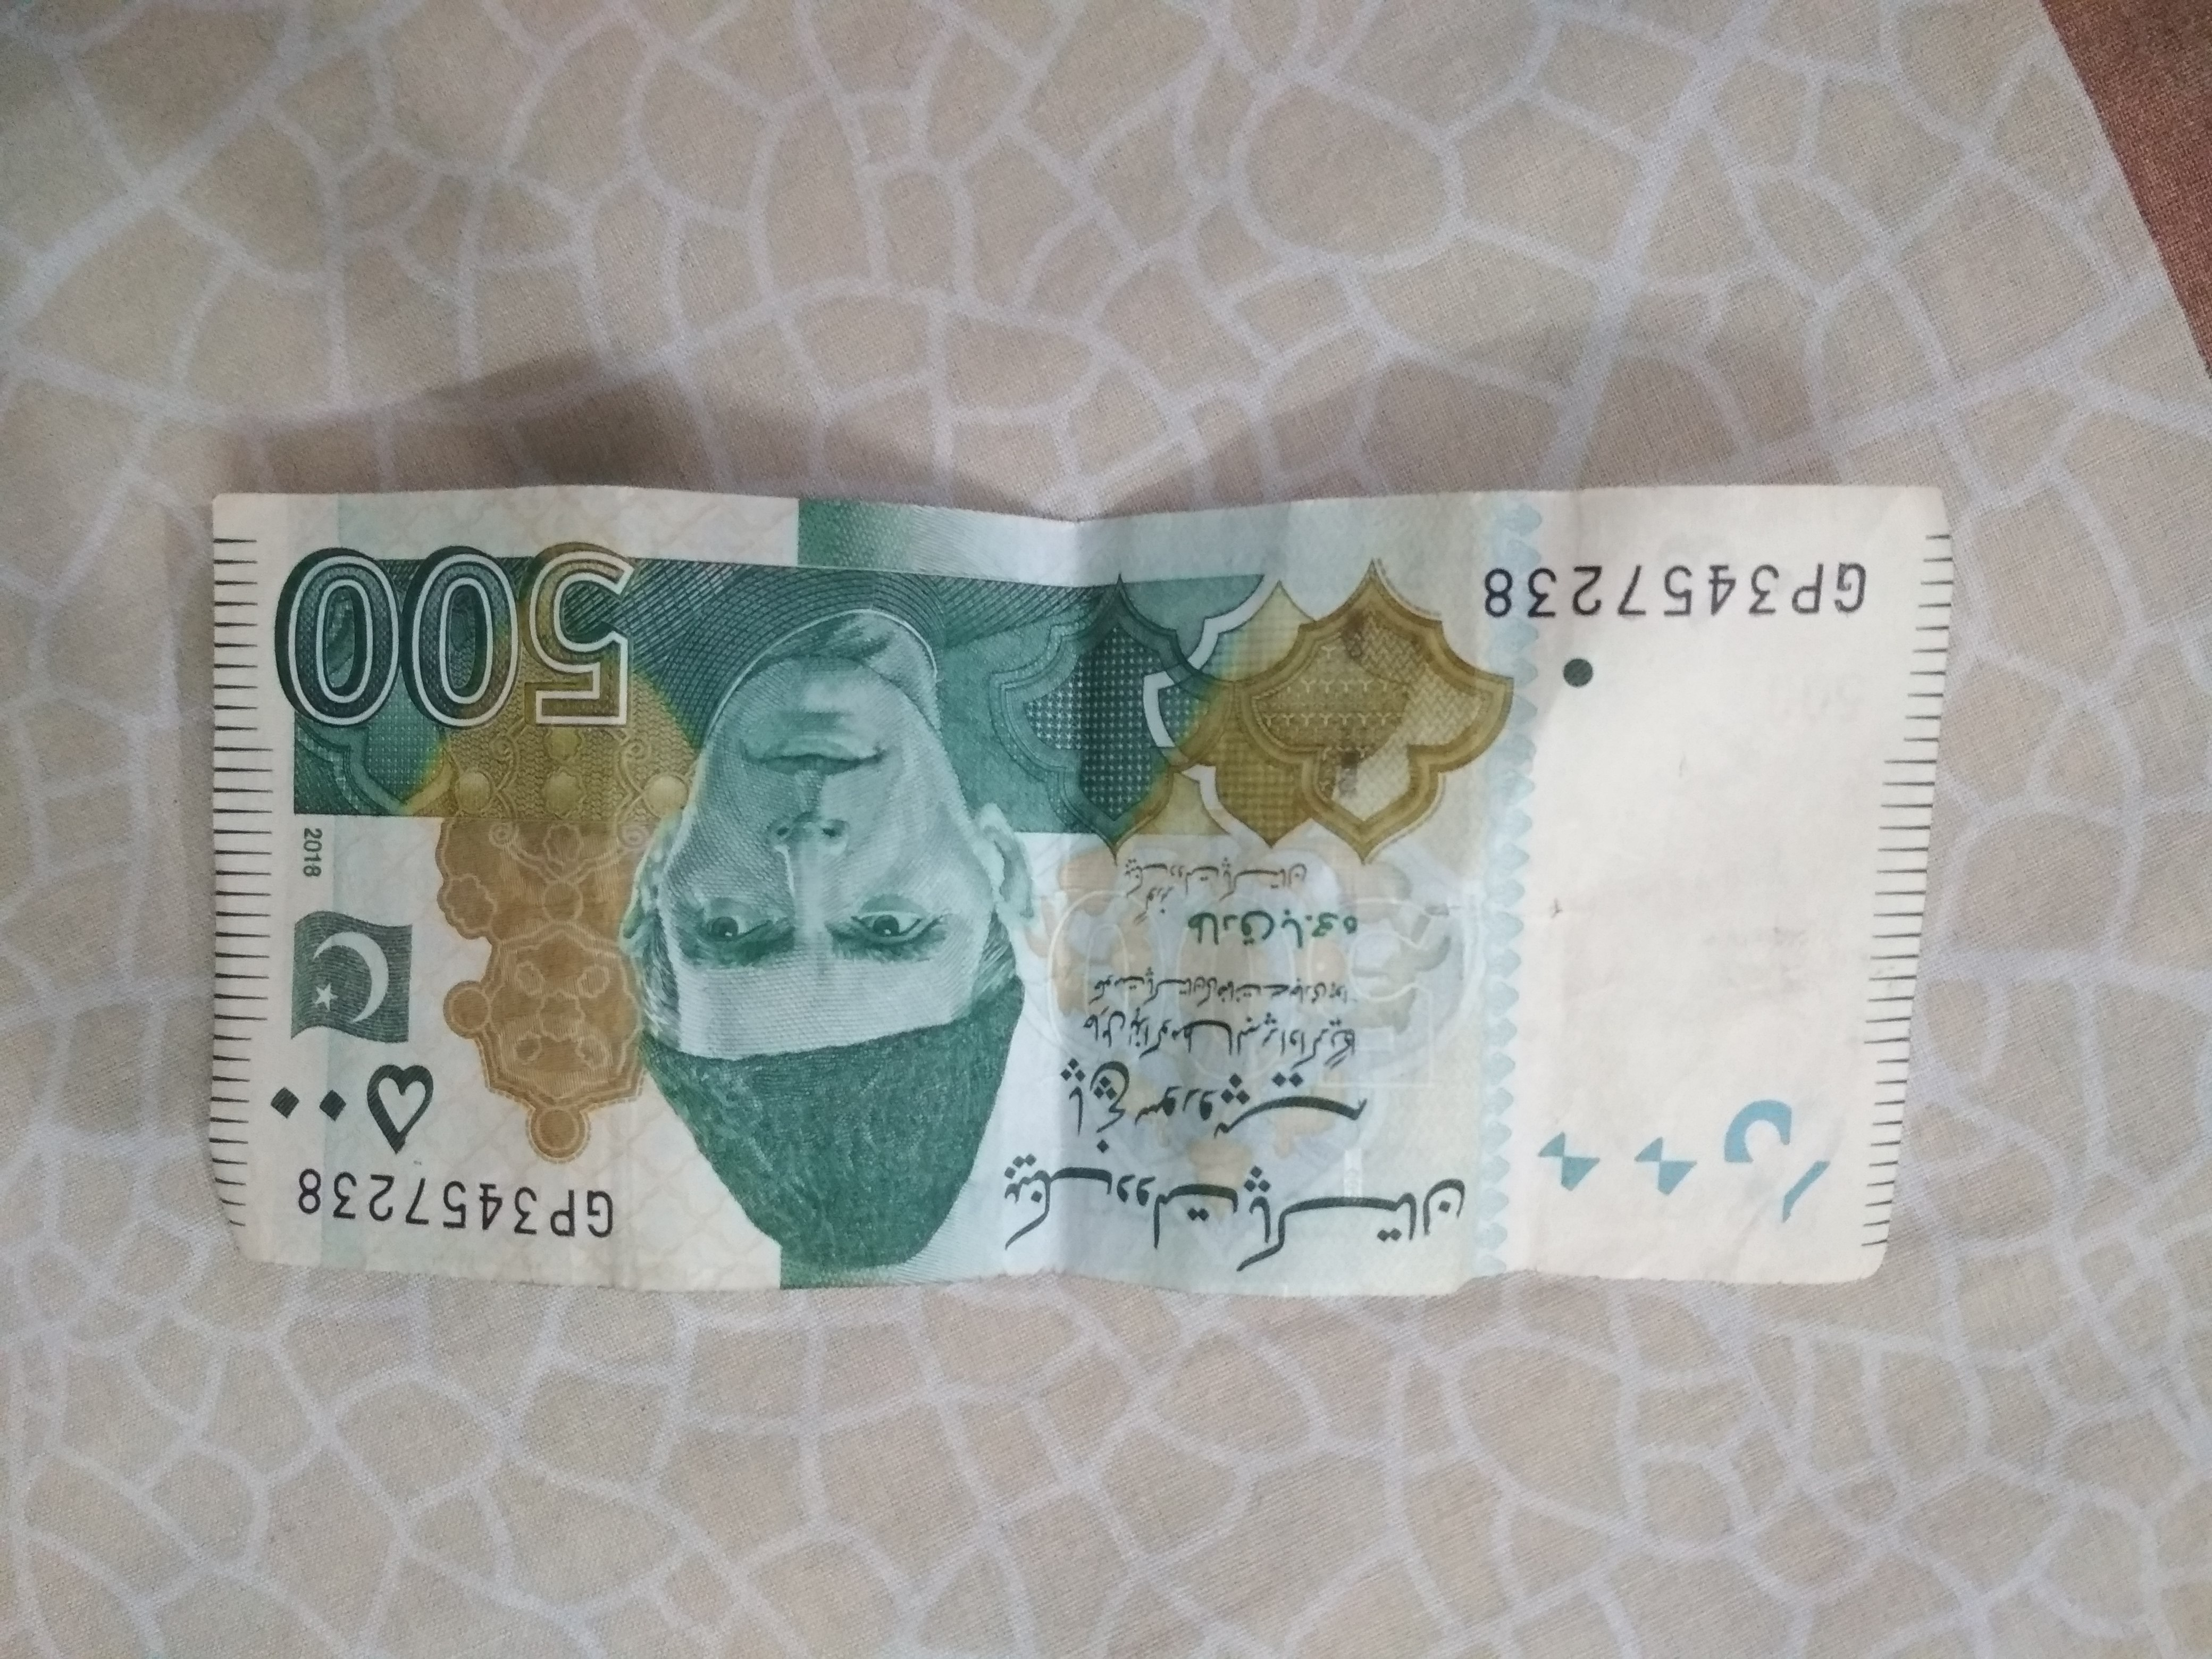500 rupee: (125, 430, 2059, 1401)
